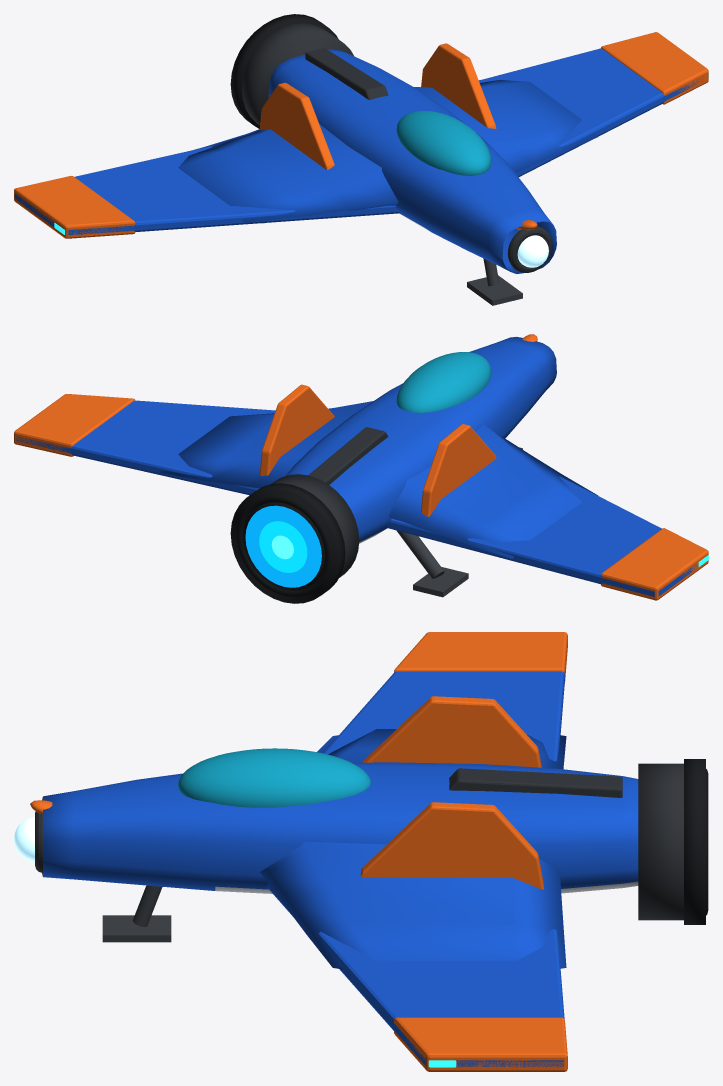
File: fighter.glb
3 views of the same model, one above another, from view 1: azimuth 30°, elevation 25°; view 2: azimuth 150°, elevation 25°; view 3: azimuth 270°, elevation 25° (orthographic). The views are drawn at different scales.
Parts seen in each view (by area): view 1: Fuselage, WingFairingL, WingL, WingR, WingFairingR, EngineRing, TipCapL, Canopy, TipCapR, FinL, FinR, TailFin (+3 smaller); view 2: Fuselage, WingFairingL, WingL, WingR, EngineRing, WingFairingR, TipCapL, Canopy, TipCapR, FinL, FinR, EngineCore (+3 smaller); view 3: Fuselage, WingFairingR, WingR, EngineRing, FinR, WingL, Canopy, FinL, TipCapR, TipCapL, TailFin, GearNose (+2 smaller).
Boxes of the visible parts, x1,y1,x2,y2 form: Fuselage: (268,49,556,273); WingFairingL: (178,124,398,222); WingL: (14,146,400,235); WingR: (479,48,702,177); WingFairingR: (414,80,597,172); EngineRing: (230,14,353,128); TipCapL: (14,176,135,238); Canopy: (396,111,491,175); TipCapR: (601,32,708,104); FinL: (259,82,334,169); FinR: (421,43,496,128); TailFin: (305,48,388,99); Fuselage: (285,336,556,543); WingFairingL: (388,425,598,558); WingL: (386,476,696,596); WingR: (16,400,275,495); EngineRing: (230,474,359,603); WingFairingR: (160,401,373,488); TipCapL: (601,528,708,600); Canopy: (396,352,491,412); TipCapR: (14,394,135,456); FinL: (421,424,496,516); FinR: (259,384,334,475); EngineCore: (245,505,321,587); Fuselage: (42,762,638,893); WingFairingR: (260,841,566,969); WingR: (267,884,564,1067); EngineRing: (638,759,708,924); FinR: (360,802,543,889); WingL: (323,671,564,761); Canopy: (178,748,370,807); FinL: (362,696,541,767); TipCapR: (394,1017,567,1071); TipCapL: (394,632,567,683); TailFin: (449,768,622,797); GearNose: (102,885,171,942).
Size of the model in its own units: 6.41 by 1.28 by 4.43.
